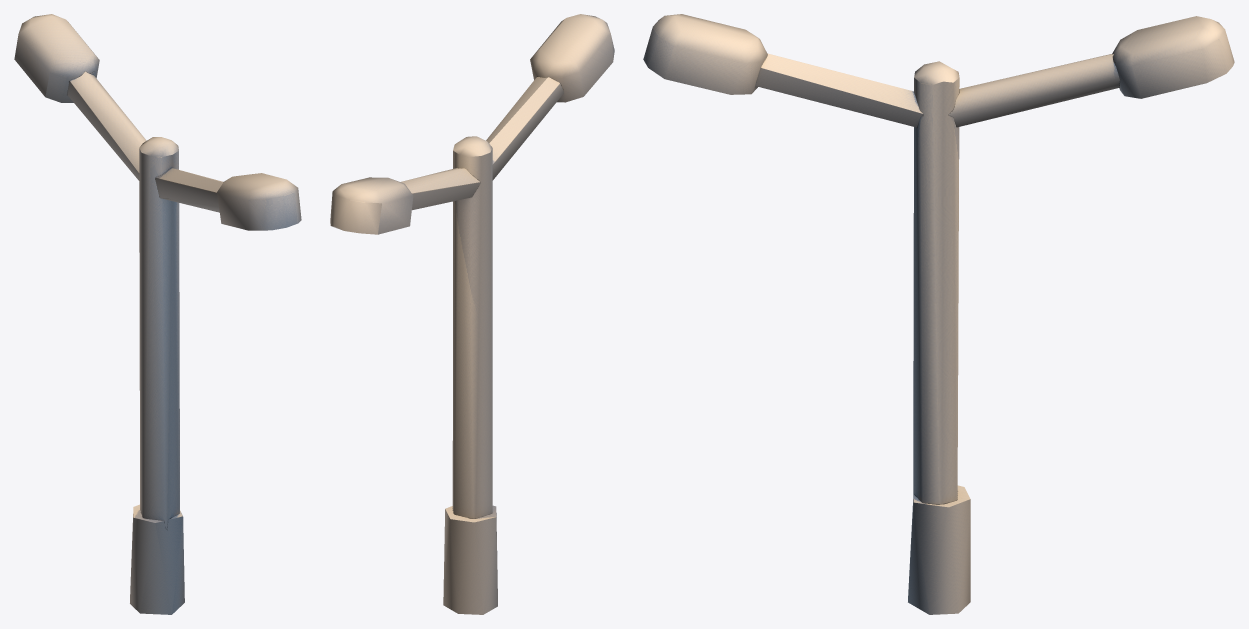
The model's file is trafficlamp.gltf.
3 renders of one model, left to right at view 1: azimuth 30°, elevation 25°; view 2: azimuth 150°, elevation 25°; view 3: azimuth 270°, elevation 25°, orthographic. The views are drawn at different scales.
Parts seen in each view (by area): view 1: trafficlamp_1; view 2: trafficlamp_1; view 3: trafficlamp_1.
Part boxes in pixels (x1,y1,x2,y2): trafficlamp_1: [14, 14, 301, 614]; trafficlamp_1: [330, 14, 614, 614]; trafficlamp_1: [643, 14, 1234, 614].
Bounding box in the file's own units: 0.2961 × 2.76 × 2.54.
Materials: 1 (1 with a texture image).
